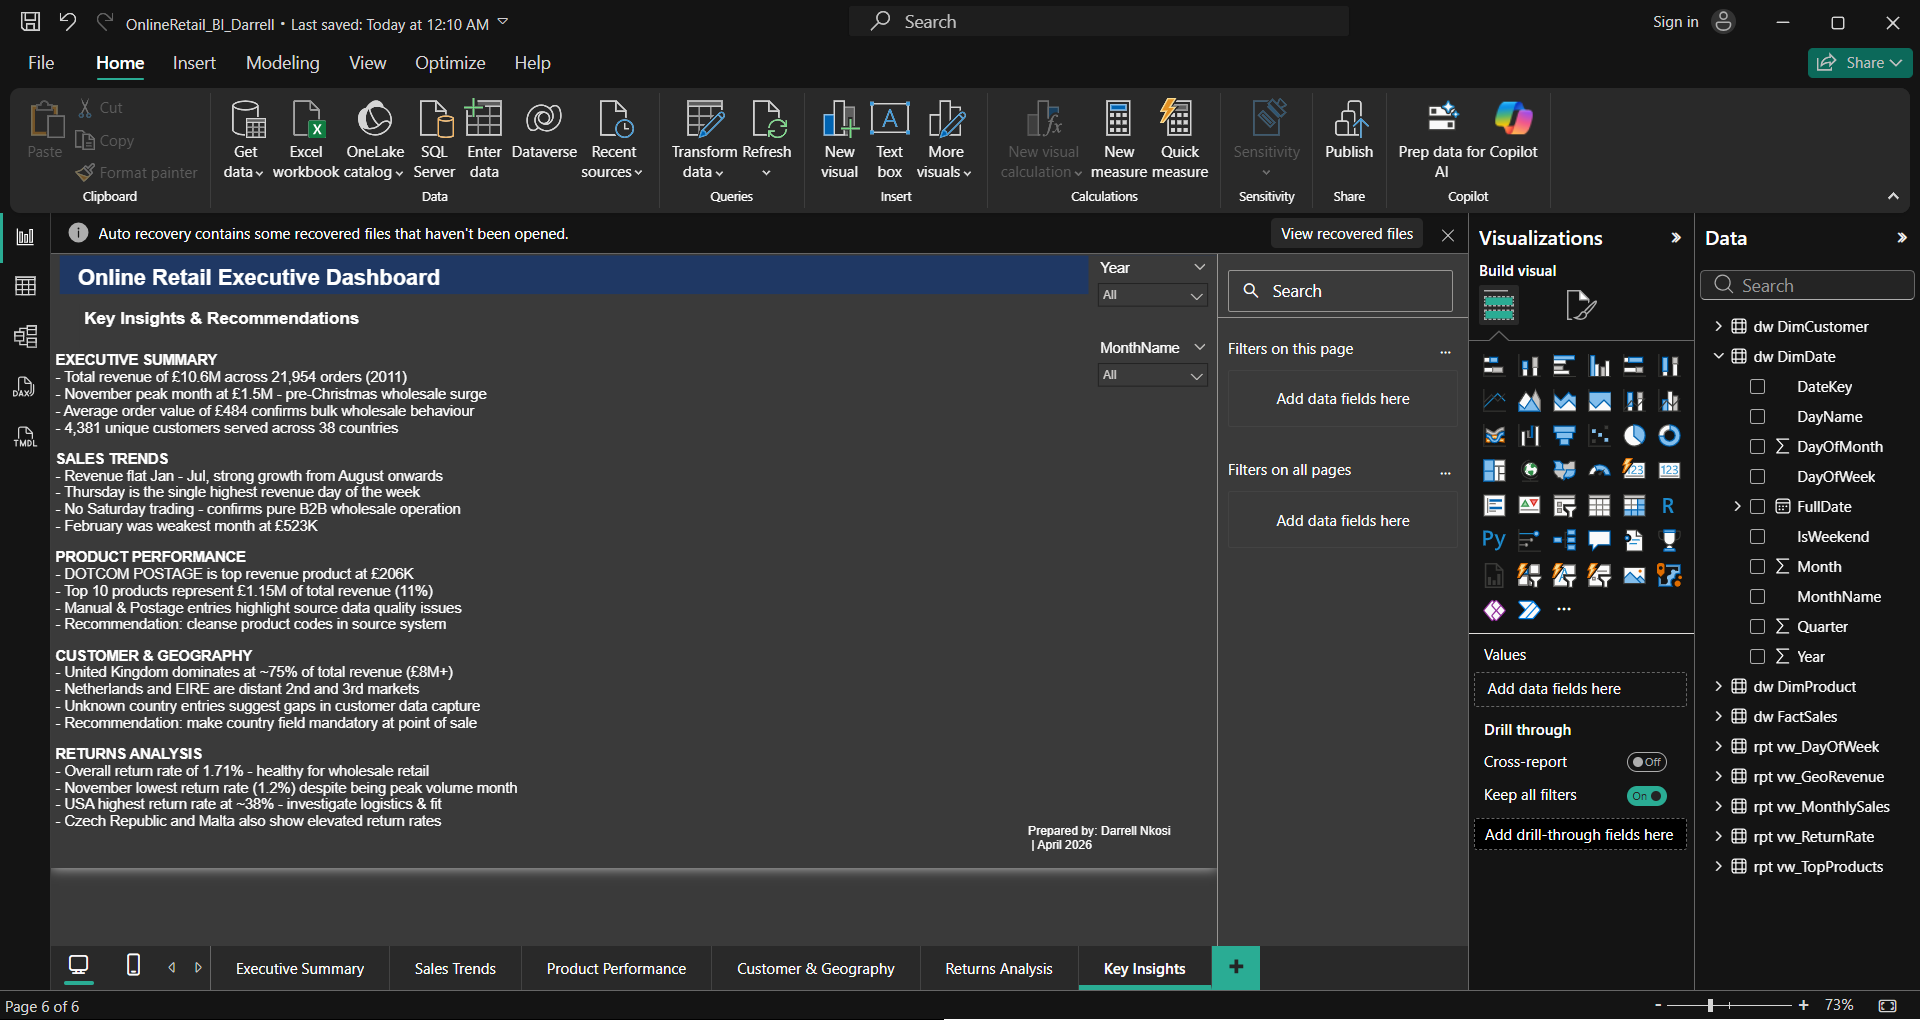

The dashboard page shown, as its layout file describes it:
{"tool":"powerbi","page":{"name":"Key Insights","canvas":[1280,720],"ordinal":5},"visuals":[{"type":"textbox","box":[1067.3,665.1,212.7,54.9],"z":1000},{"type":"textbox","box":[0,148.2,793.1,572.2],"z":2000},{"type":"textbox","box":[9.6,46.7,1269.3,42.5],"z":3000},{"type":"textbox","box":[31.6,100.2,1247.3,48],"z":4000},{"type":"slicer","fields":{"Values":["dw DimDate.Year"]},"box":[1138.7,46.7,141.3,87.8],"z":4001},{"type":"slicer","fields":{"Values":["dw DimDate.MonthName"]},"box":[1138.7,134.5,141.3,85.1],"z":4002}]}

Visuals, with their boxes on the page's 1280x720 design canvas (x1, y1, x2, y2). These are canvas units, not pixel positions in the 1920x1020 screenshot, which may show the page scaled, cropped or inside an application window:
textbox: region(1067, 665, 1280, 720)
textbox: region(0, 148, 793, 720)
textbox: region(10, 47, 1279, 89)
textbox: region(32, 100, 1279, 148)
slicer - dw DimDate.Year: region(1139, 47, 1280, 134)
slicer - dw DimDate.MonthName: region(1139, 134, 1280, 220)
